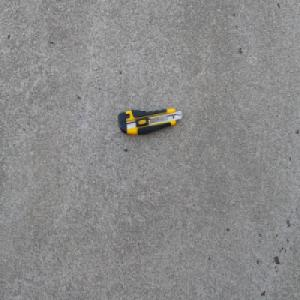Cutter: (117, 107, 182, 135)
